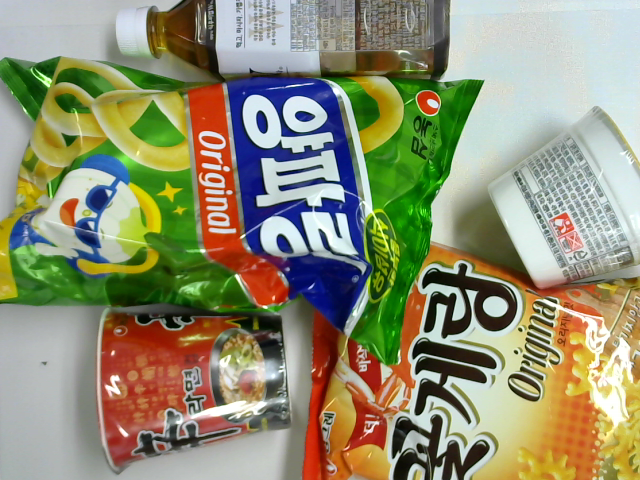Crabrang: (300, 231, 640, 480)
Hejangmini: (485, 103, 640, 293)
Oninon_Ring: (1, 55, 486, 369)
Post-meal_recipe_W_tea_500ml: (113, 1, 453, 81)
Sinramen_small: (95, 306, 295, 476)
